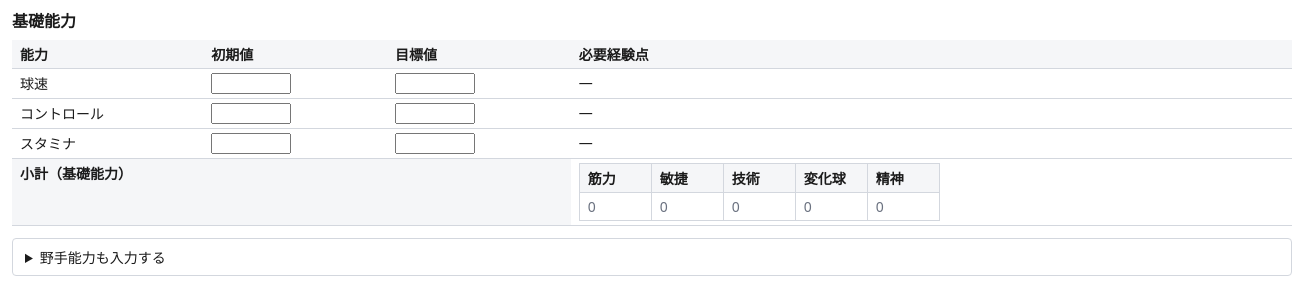
Scenario: BaseAbilityTab › UI-T2-03: 初期値・目標値の入力で必要経験点が表示される
Type "130" into the number field with test id "base-current-velocity".
click(251, 84); type("130")  # box [211,73,291,94]
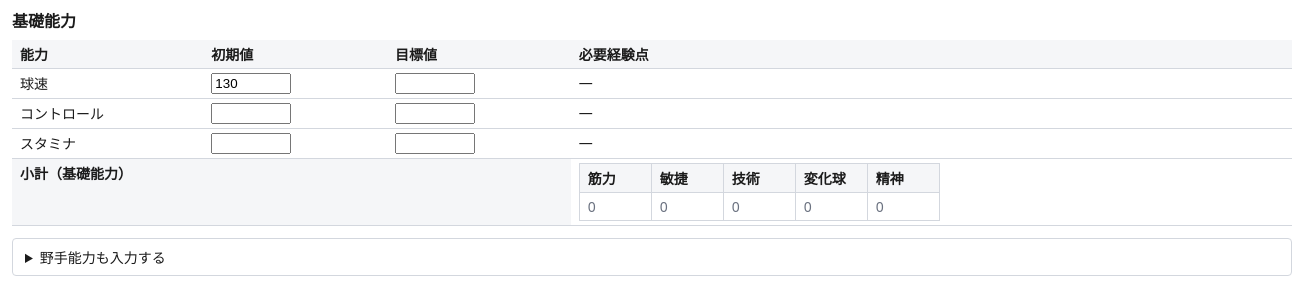
Type "132" into the number field with test id "base-target-velocity".
click(435, 84); type("132")  # box [395,73,475,94]
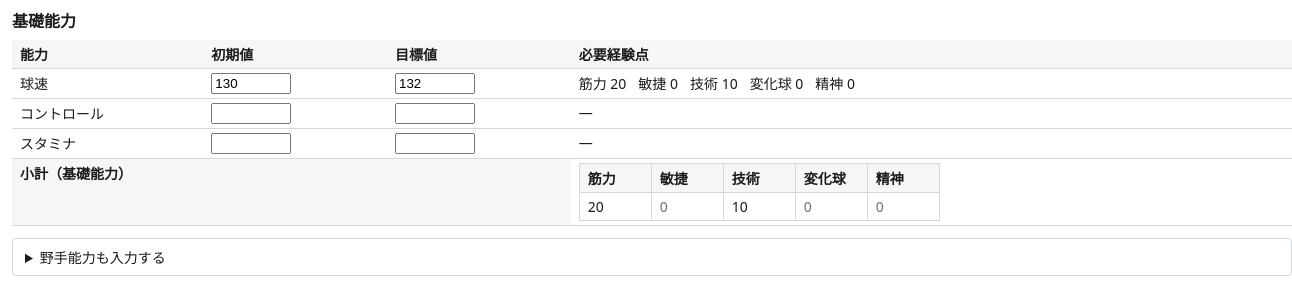
expect the element with test id "base-exp-velocity" shows "筋力 20": met, box [579,73,855,93]
expect the element with test id "base-exp-velocity" shows "技術 10": met, box [579,73,855,93]
